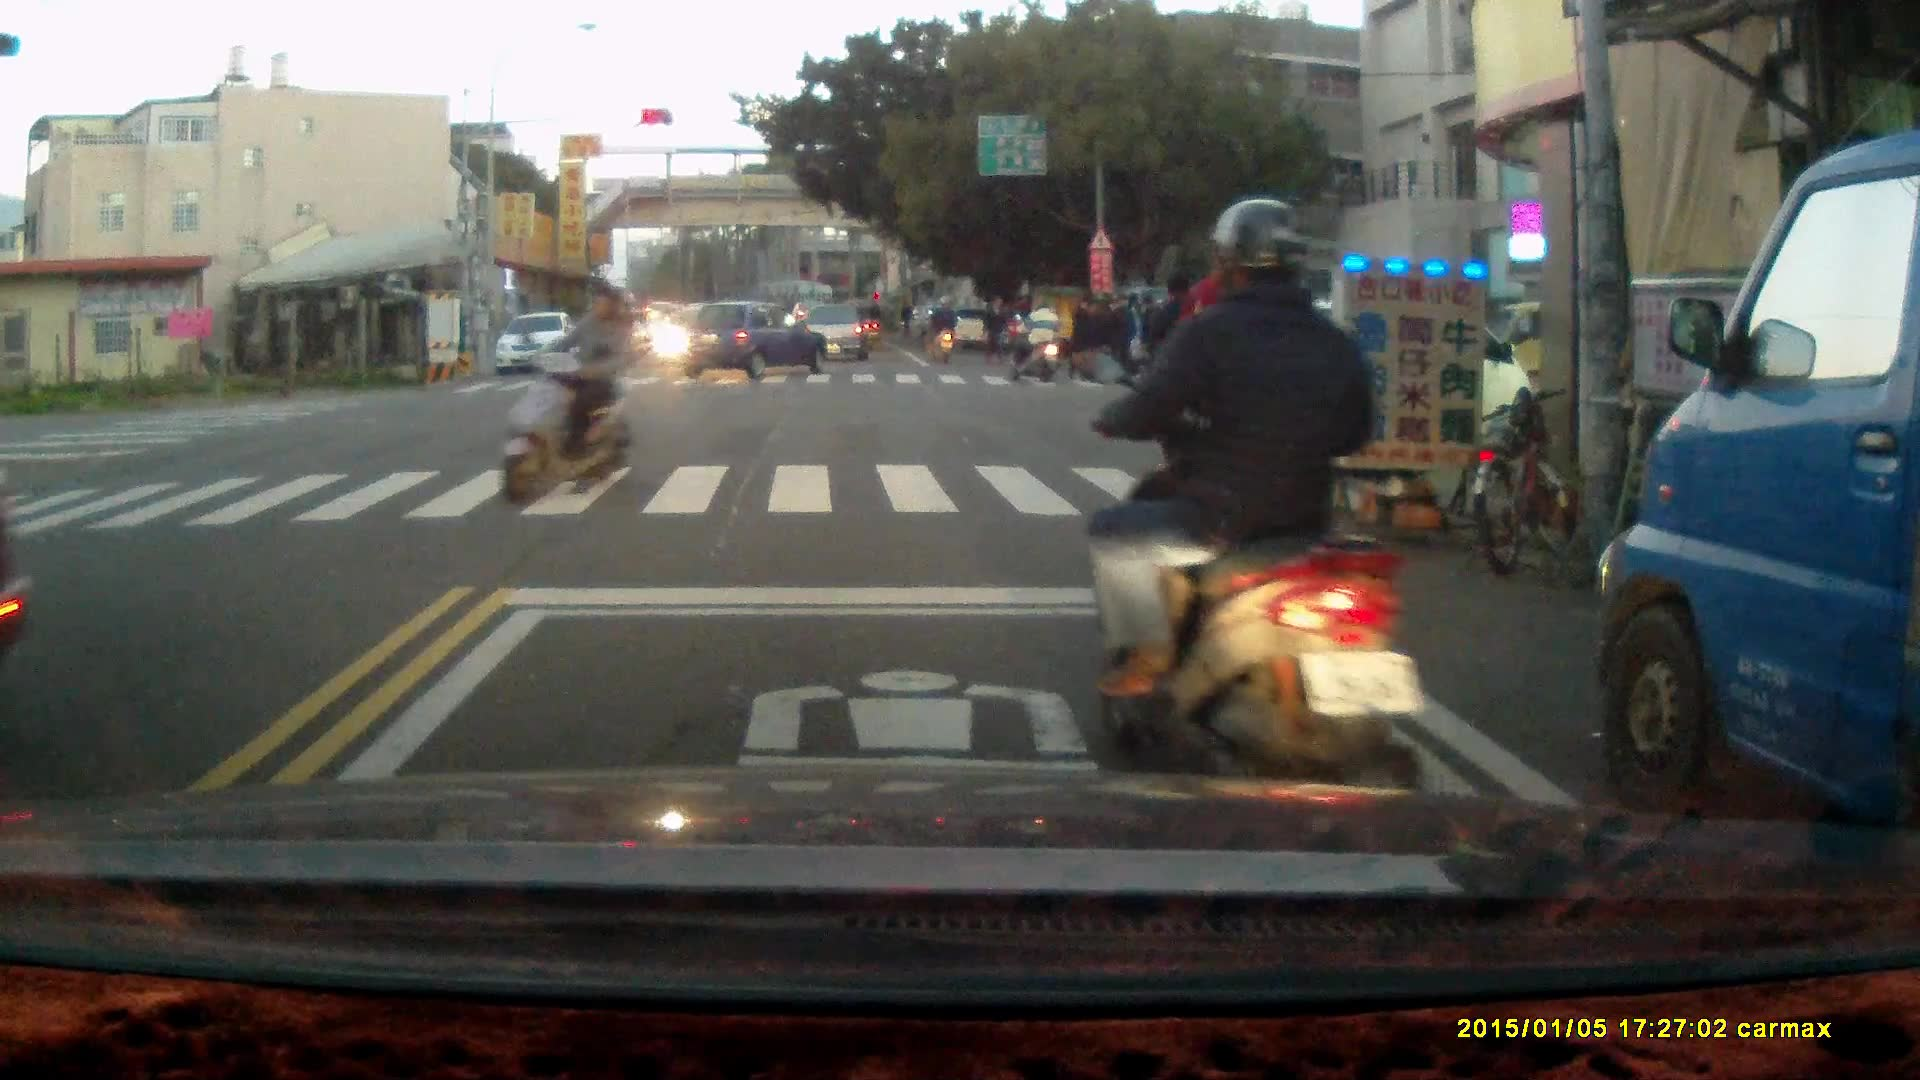pedestrian: (1106, 291, 1138, 379), (1069, 295, 1095, 374), (981, 291, 1005, 366)
rider: (1072, 198, 1426, 855), (499, 278, 637, 504), (1009, 295, 1064, 382), (926, 292, 957, 365)
vehicle: (1598, 132, 1920, 883), (1233, 296, 1533, 459), (676, 302, 828, 384), (498, 313, 586, 377), (796, 302, 875, 366)
